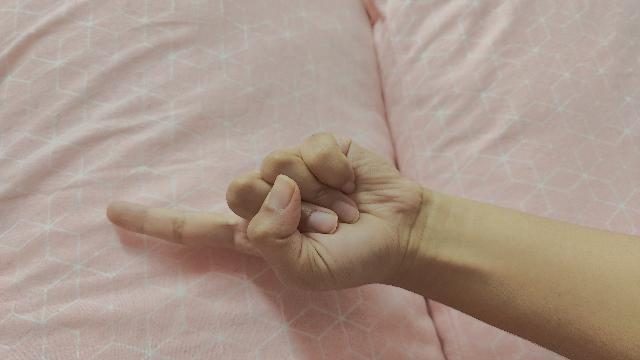soochi: (106, 132, 560, 292)
